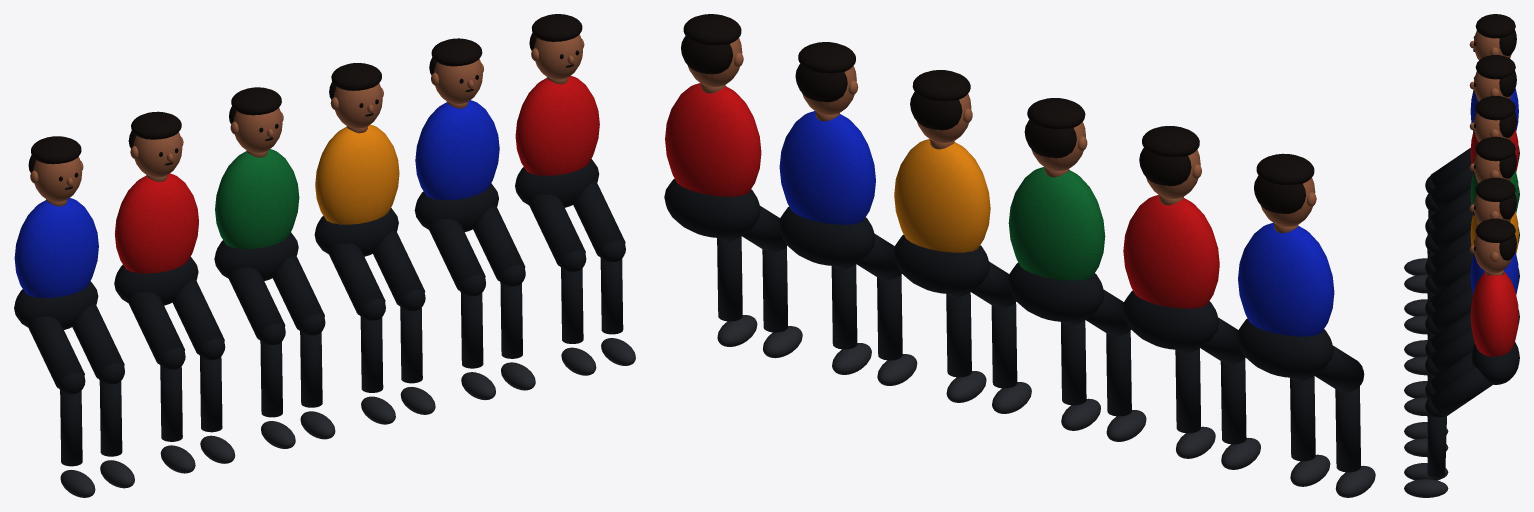
The model's file is Cuerpo_Espectadores.obj.
3 renders of one model, left to right at view 1: azimuth 30°, elevation 25°; view 2: azimuth 150°, elevation 25°; view 3: azimuth 270°, elevation 25°, orthographic. The views are drawn at different scales.
Parts seen in each view (by area): view 1: Cuerpo_Espectadores; view 2: Cuerpo_Espectadores; view 3: Cuerpo_Espectadores.
Part boxes in pixels (x1,y1,x2,y2): Cuerpo_Espectadores: (14, 14, 635, 497); Cuerpo_Espectadores: (664, 14, 1375, 497); Cuerpo_Espectadores: (1404, 14, 1519, 497).
Bounding box in the file's own units: 2.78 × 1.45 × 0.575.
